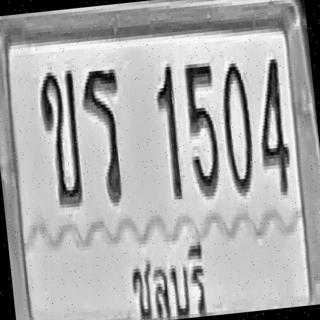A02: (36, 65, 85, 208)
A35: (79, 64, 129, 203)
N00: (217, 57, 257, 195)
N01: (153, 61, 185, 199)
N04: (252, 54, 293, 195)
N05: (181, 57, 224, 196)
P13: (122, 231, 211, 320)
